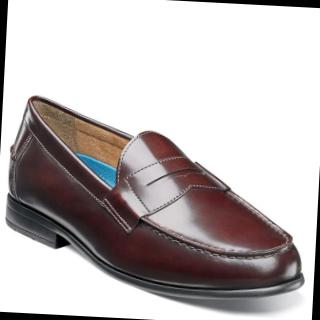loafers: (0, 88, 317, 312)
